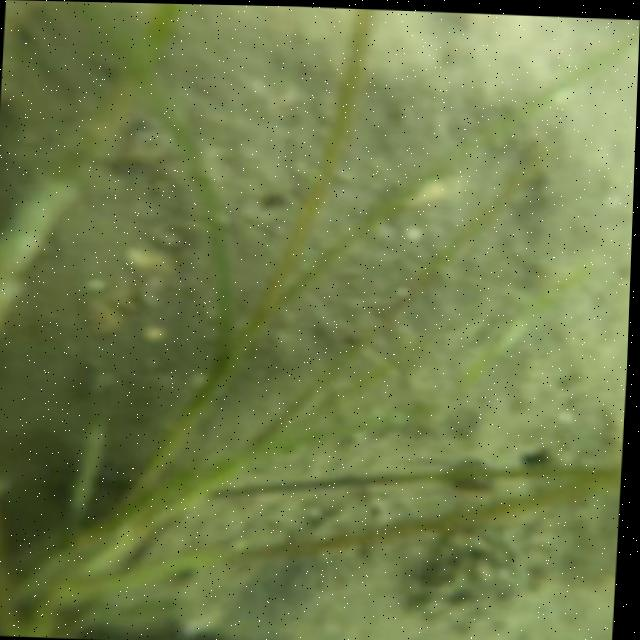Oyster-Indeterminate: (229, 17, 573, 498), (159, 8, 346, 307), (419, 494, 608, 640), (213, 530, 428, 639)
